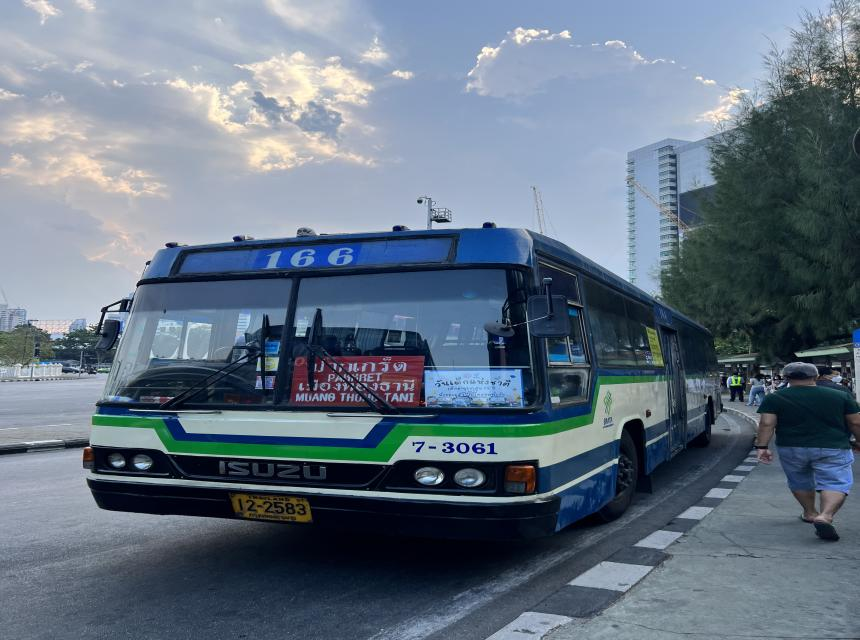BMTA-bus: (80, 225, 722, 545)
Bus Line Number: (253, 247, 365, 270)
Bus Side Number: (401, 438, 508, 463)
Destination Sign: (290, 352, 423, 408)
